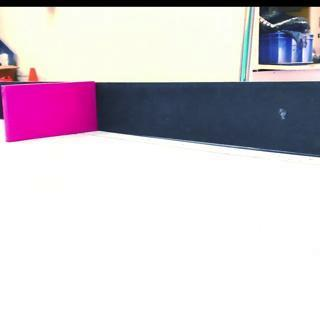xparking: (5, 84, 96, 132)
